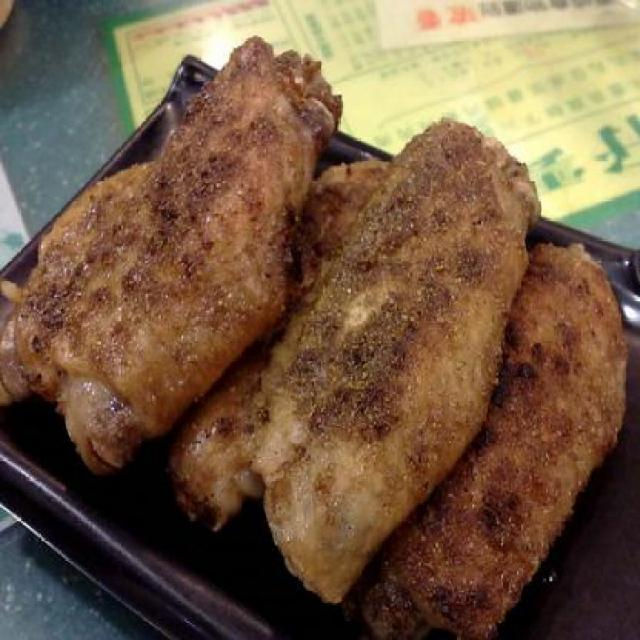Deep fried chicken wing: (26, 38, 626, 614)
